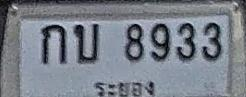3: (176, 22, 196, 61), (202, 22, 222, 61)
8: (124, 23, 143, 61)
9: (150, 22, 170, 62)
A01: (41, 24, 66, 64)
A26: (73, 23, 99, 63)
RYG: (91, 77, 160, 97)
